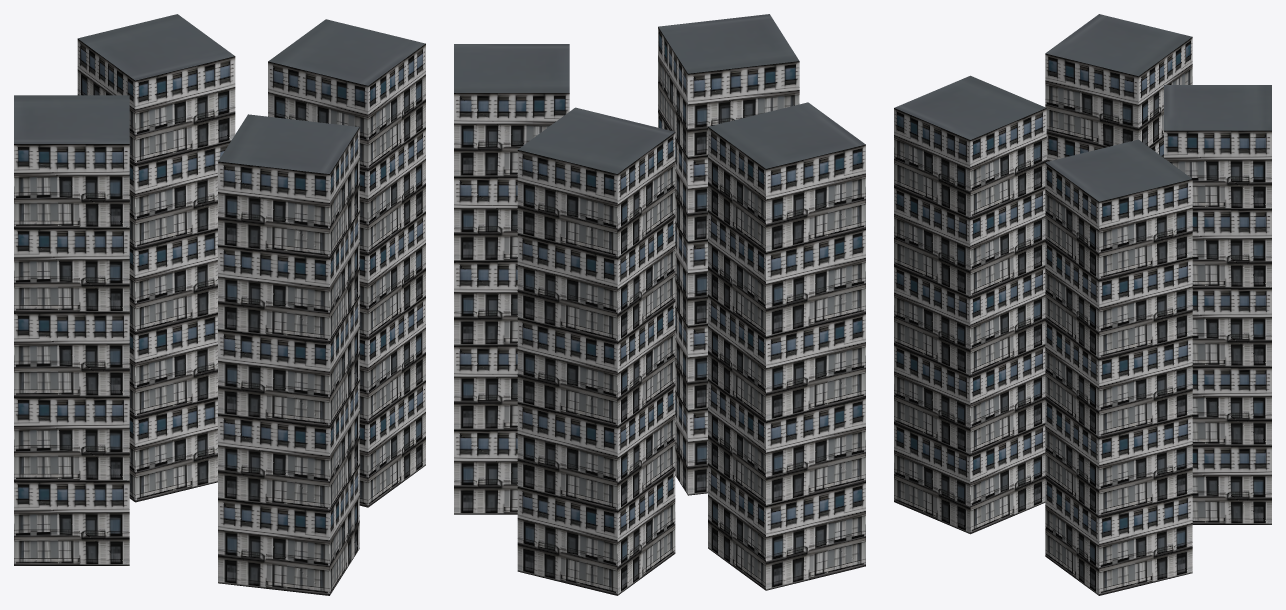
3 renders of one model, left to right at view 1: azimuth 30°, elevation 25°; view 2: azimuth 150°, elevation 25°; view 3: azimuth 270°, elevation 25°, orthographic. The views are drawn at different scales.
Visible parts, largest first — view 1: B10; view 2: B10; view 3: B10.
Part boxes in pixels (<box>): B10: <box>14,14,425,595</box>; B10: <box>454,14,865,595</box>; B10: <box>894,14,1271,595</box>.
Bounding box in the file's own units: 898 × 879 × 763.
1 material, 1 textured.
